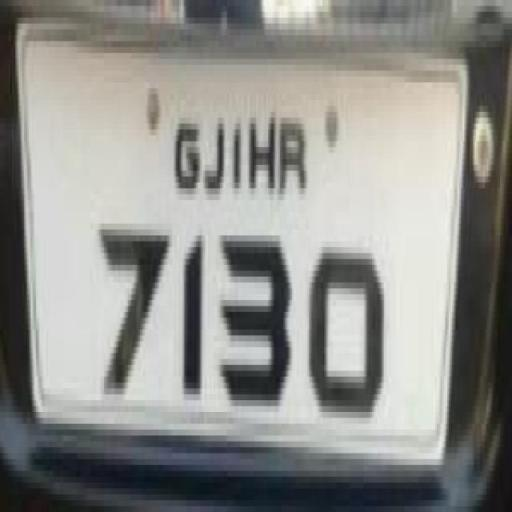number plate: (12, 24, 476, 482)
